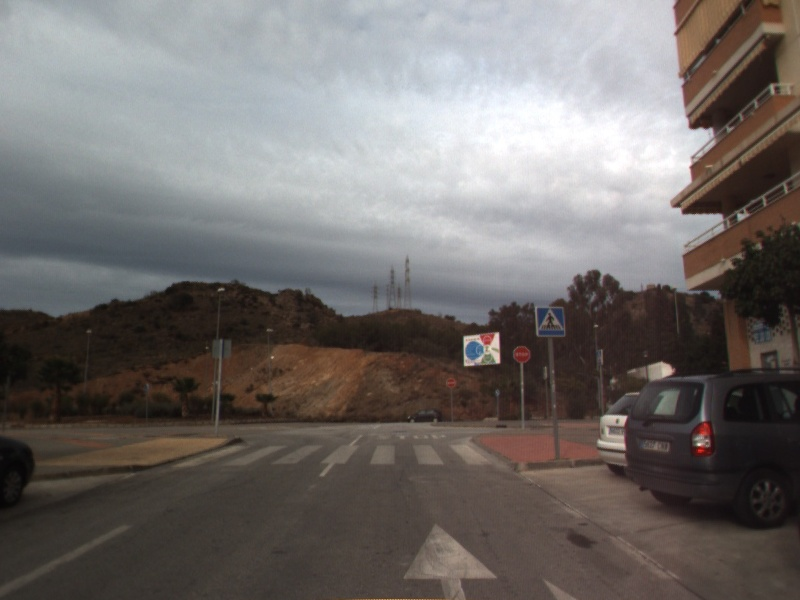STRAIGHT: (399, 519, 502, 600)
